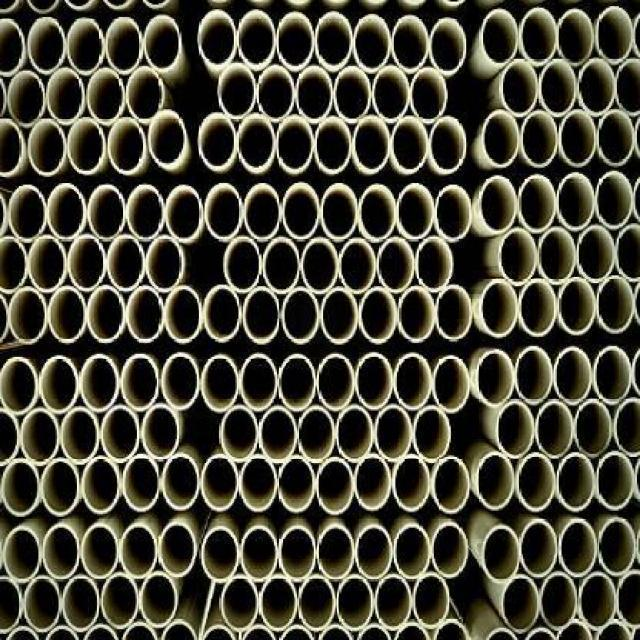pipe: (2, 354, 41, 416), (556, 451, 596, 511), (46, 182, 86, 241), (594, 171, 634, 230), (499, 58, 539, 117), (482, 523, 520, 585), (595, 451, 634, 511), (572, 399, 611, 459), (552, 346, 591, 406), (480, 279, 519, 339), (555, 171, 594, 231), (518, 519, 557, 579), (516, 453, 556, 511), (20, 408, 60, 466), (496, 400, 536, 458), (86, 285, 126, 343), (238, 454, 277, 513), (557, 277, 596, 336), (595, 274, 634, 333), (500, 575, 539, 634), (540, 571, 579, 630), (28, 234, 67, 293), (498, 228, 537, 287), (537, 226, 576, 285), (575, 225, 614, 284), (205, 182, 244, 241), (282, 182, 321, 241), (518, 174, 557, 233), (66, 117, 105, 176), (275, 114, 314, 173), (595, 108, 634, 167), (126, 65, 165, 124), (28, 15, 67, 74), (202, 525, 241, 584), (558, 518, 597, 577), (42, 458, 81, 517), (477, 451, 515, 511), (120, 354, 160, 411), (106, 234, 146, 291), (197, 9, 237, 66), (200, 453, 239, 511), (162, 453, 201, 511), (100, 405, 139, 463), (535, 400, 574, 458), (80, 354, 119, 412), (200, 354, 239, 412), (238, 353, 277, 411), (514, 347, 553, 405), (594, 345, 633, 403), (165, 285, 204, 343), (203, 285, 242, 343), (82, 456, 121, 514), (482, 109, 520, 168), (122, 454, 161, 511), (391, 454, 430, 511), (60, 408, 99, 465), (258, 406, 297, 463), (142, 405, 181, 462), (277, 354, 316, 411), (160, 353, 199, 410), (9, 286, 48, 343), (242, 286, 281, 343), (48, 286, 87, 343), (126, 285, 165, 342), (23, 576, 62, 633), (62, 574, 101, 631), (220, 574, 259, 631), (297, 574, 336, 631), (258, 574, 297, 631), (262, 237, 301, 294), (223, 236, 262, 293), (146, 236, 185, 293), (66, 234, 105, 291), (8, 185, 47, 242), (165, 185, 204, 242), (126, 183, 165, 240), (88, 183, 127, 240), (28, 119, 67, 176), (237, 113, 276, 170), (197, 113, 236, 170), (148, 109, 187, 166), (6, 71, 45, 128), (86, 68, 125, 125), (46, 68, 85, 125), (257, 65, 296, 122), (218, 62, 257, 119), (66, 19, 105, 76), (143, 14, 182, 71), (237, 8, 276, 65), (480, 8, 519, 65), (3, 526, 42, 583), (42, 523, 81, 580), (2, 459, 41, 516), (520, 6, 557, 66), (220, 405, 259, 461), (100, 572, 139, 628), (138, 572, 177, 628), (315, 525, 354, 581), (157, 521, 196, 577), (356, 351, 393, 410), (360, 286, 397, 345), (322, 286, 359, 345), (519, 278, 556, 337), (579, 571, 616, 630), (359, 183, 396, 242), (320, 183, 357, 242), (243, 183, 280, 242), (480, 175, 517, 234), (559, 109, 596, 168), (373, 65, 410, 124), (539, 58, 576, 117), (106, 15, 143, 74), (277, 11, 314, 70), (316, 11, 353, 70), (596, 6, 633, 65), (279, 523, 316, 582), (599, 517, 636, 576), (277, 454, 314, 513), (40, 356, 78, 413), (353, 116, 391, 173), (333, 65, 371, 122), (353, 14, 391, 71), (433, 354, 470, 412), (477, 350, 514, 408), (579, 57, 616, 115), (316, 456, 353, 514), (433, 456, 470, 514), (413, 406, 450, 463), (297, 405, 334, 462), (336, 405, 373, 462), (374, 405, 411, 462), (317, 354, 354, 411), (394, 353, 431, 410), (282, 286, 319, 343), (399, 285, 436, 342), (300, 237, 337, 294), (337, 574, 374, 631), (374, 574, 411, 631), (413, 573, 450, 630), (436, 185, 473, 242), (108, 117, 145, 174), (314, 116, 351, 173), (429, 116, 466, 173), (391, 116, 428, 173), (520, 111, 557, 168), (411, 66, 448, 123), (296, 65, 333, 122), (429, 17, 466, 74), (393, 16, 430, 73), (557, 9, 594, 66), (240, 525, 277, 582), (82, 523, 119, 580), (394, 523, 431, 580), (120, 522, 157, 579), (414, 236, 452, 291), (354, 454, 391, 510), (436, 285, 473, 341), (377, 237, 414, 293), (356, 525, 393, 581), (340, 237, 376, 294), (398, 182, 434, 239), (432, 521, 468, 577), (0, 235, 28, 294), (614, 397, 640, 455), (615, 569, 640, 629), (615, 225, 640, 282), (615, 59, 640, 116), (0, 117, 23, 177), (2, 17, 25, 77), (2, 576, 24, 636), (0, 408, 20, 466)
